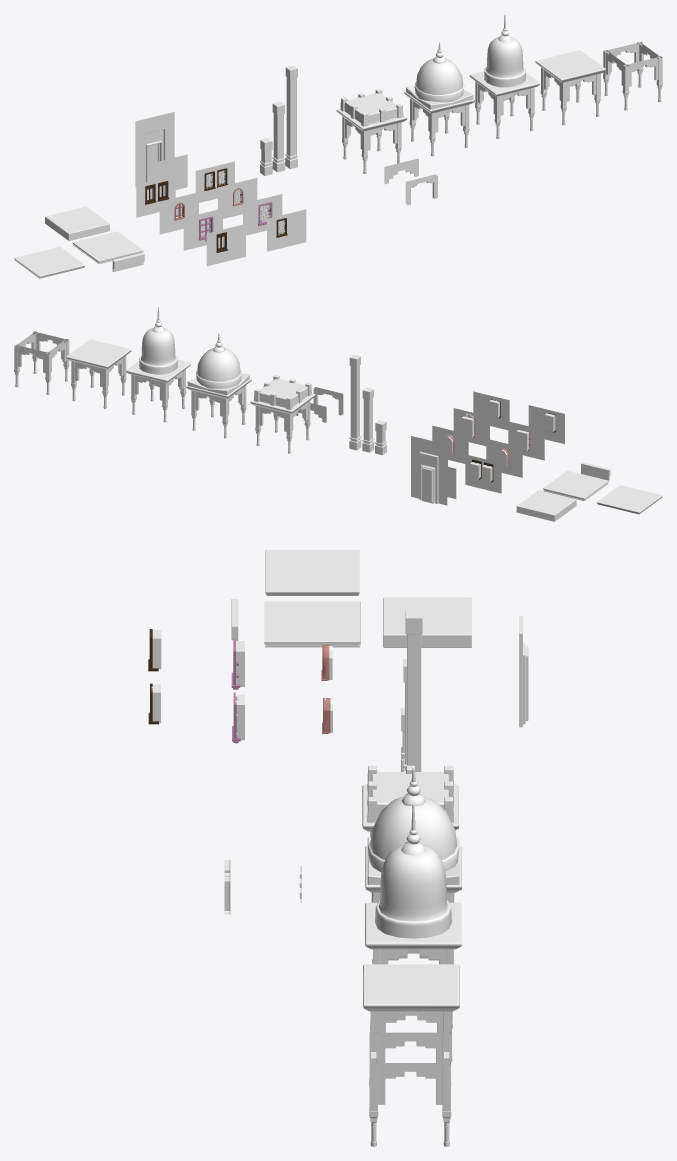
Rendered from Structs_03.fbx.
3 views of the same model, one above another, from view 1: azimuth 30°, elevation 25°; view 2: azimuth 150°, elevation 25°; view 3: azimuth 270°, elevation 25° (orthographic). The views are drawn at different scales.
Parts seen in each view (by area): view 1: Top_Struct_02.001, Top_Struct_01.002, DetailsTop_Struct_02.001, DetailsTop_Struct_02.004, Struct_02.008, Border_02.009, Border_02.017, Border_02.018, Border_02.011, Border_02.023, Border_02.025, Border_02.014 (+12 smaller); view 2: Top_Struct_02.001, Top_Struct_01.002, DetailsTop_Struct_02.001, Struct_02.008, DetailsTop_Struct_02.004, Border_02.009, Border_02.017, Border_02.018, Border_02.021, Border_02.011, Struct_02.006, Border_02.014 (+9 smaller); view 3: Top_Struct_01.002, DetailsTop_Struct_02.004, Top_Struct_02.001, Border_02.018, Border_02.009, Border_02.011, Border_02.017, DetailsTop_Struct_02.001, Border_02.022, Struct_02.008.
Boxes of the visible parts, x1,y1,x2,y2 form: Top_Struct_02.001: [404, 42, 474, 156]; Top_Struct_01.002: [469, 14, 540, 138]; DetailsTop_Struct_02.001: [336, 88, 407, 173]; DetailsTop_Struct_02.004: [535, 50, 605, 125]; Struct_02.008: [135, 112, 174, 187]; Border_02.009: [603, 41, 662, 110]; Border_02.017: [45, 206, 109, 240]; Border_02.018: [72, 231, 143, 263]; Border_02.011: [14, 246, 85, 278]; Border_02.023: [206, 224, 245, 266]; Border_02.025: [267, 209, 306, 251]; Border_02.014: [159, 192, 198, 234]; Top_Struct_02.001: [186, 333, 251, 438]; Top_Struct_01.002: [125, 307, 190, 422]; DetailsTop_Struct_02.001: [250, 375, 315, 453]; Struct_02.008: [411, 436, 447, 505]; DetailsTop_Struct_02.004: [66, 339, 131, 408]; Border_02.009: [14, 331, 69, 394]; Border_02.017: [516, 490, 576, 521]; Border_02.018: [543, 470, 608, 500]; Border_02.021: [465, 454, 501, 493]; Border_02.011: [597, 485, 662, 514]; Struct_02.006: [508, 421, 544, 460]; Border_02.014: [486, 438, 522, 477]; Top_Struct_01.002: [365, 804, 461, 1027]; DetailsTop_Struct_02.004: [363, 964, 459, 1063]; Top_Struct_02.001: [365, 767, 461, 902]; Border_02.018: [264, 601, 360, 647]; Border_02.009: [369, 1031, 451, 1146]; Border_02.011: [265, 550, 359, 595]; Border_02.017: [383, 597, 471, 647]; DetailsTop_Struct_02.001: [362, 765, 458, 902]; Border_02.022: [405, 611, 422, 771]; Struct_02.008: [519, 615, 528, 727].
Bounding box in the file's own units: 6209 × 1070 × 1696.
